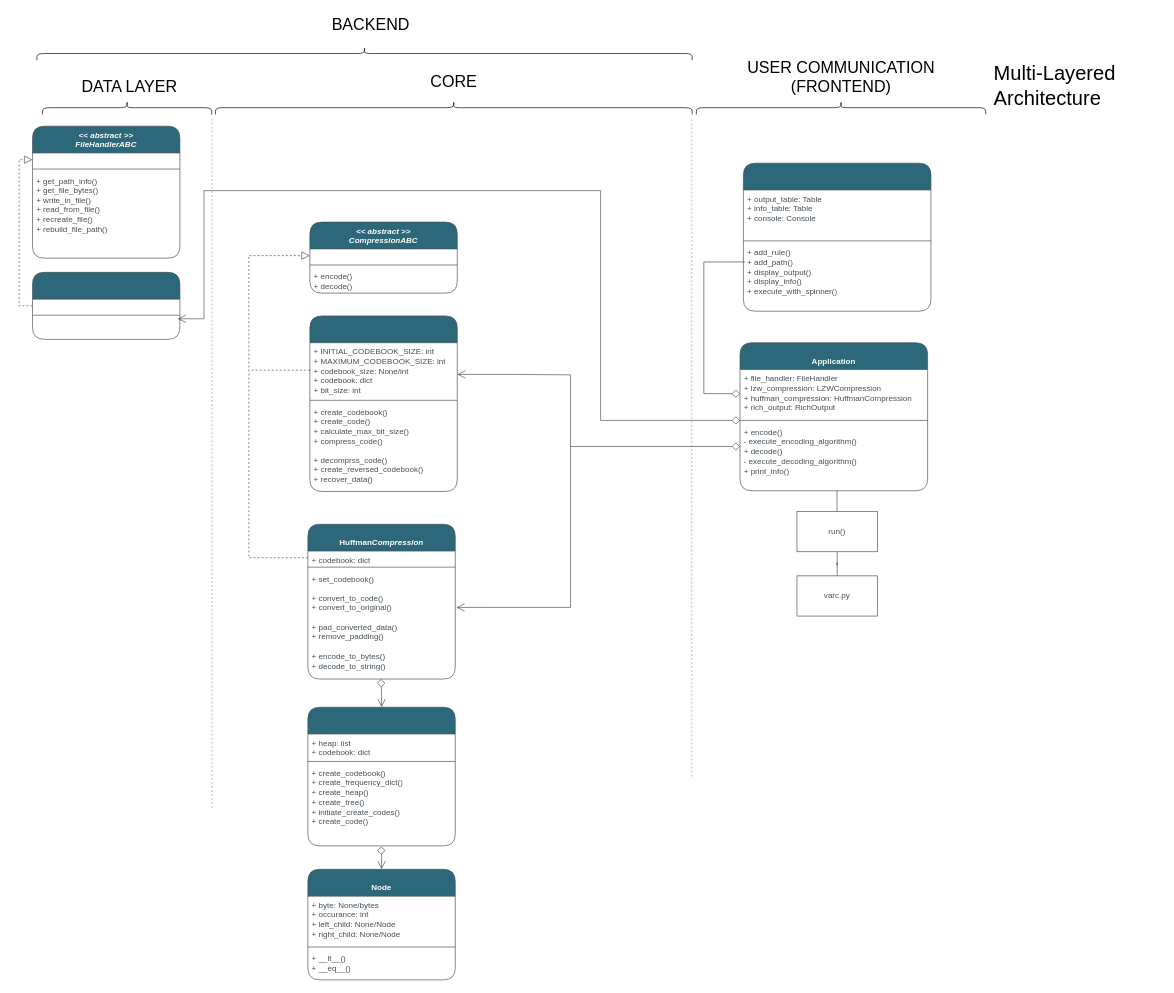
This 1174x993 diagram has some shape labels left out. The box of each missing label's shape, as (x1, y1, x2, y2) in pixels:
BinaryTree: (307, 707, 455, 846)
FileHandler: (32, 272, 180, 339)
LZW Compression: (309, 315, 457, 491)
RichOutput: (743, 162, 931, 311)
